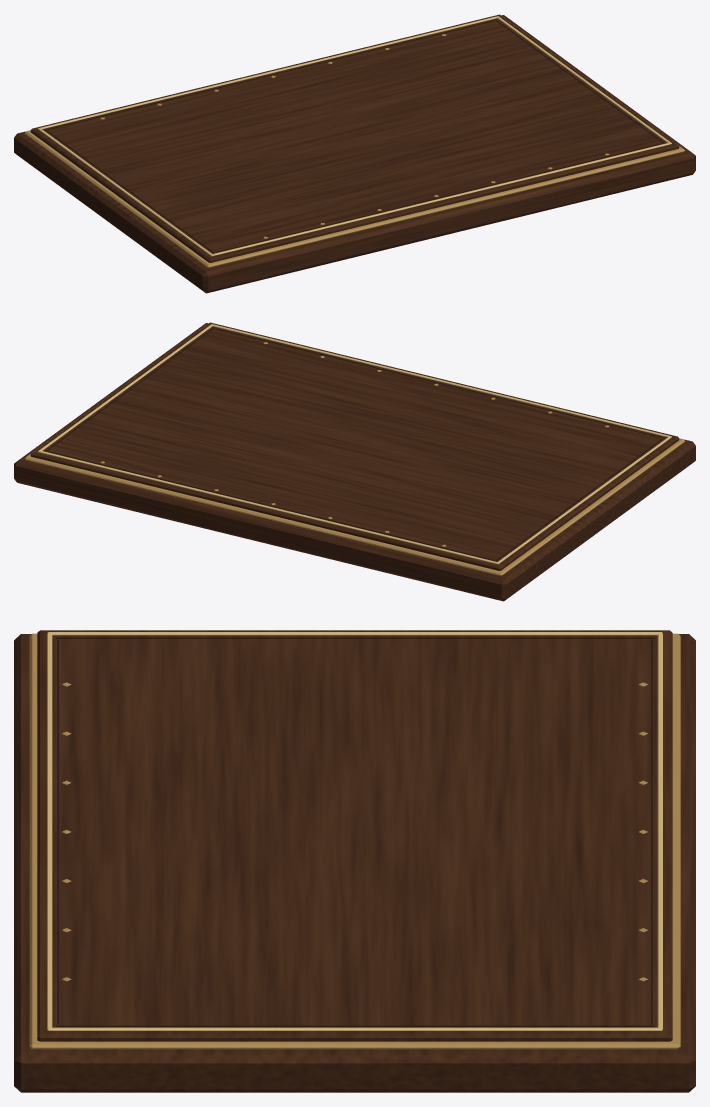
The model's file is wizard_table_carved_frame.glb.
3 renders of one model, top to bottom at view 1: azimuth 30°, elevation 25°; view 2: azimuth 150°, elevation 25°; view 3: azimuth 270°, elevation 25°, orthographic. The views are drawn at different scales.
Visible parts, largest first — view 1: wizard_table_carved_frame_Static; view 2: wizard_table_carved_frame_Static; view 3: wizard_table_carved_frame_Static.
Part boxes in pixels (x1=…): wizard_table_carved_frame_Static: x1=14, y1=14, x2=695, y2=293; wizard_table_carved_frame_Static: x1=14, y1=322, x2=695, y2=601; wizard_table_carved_frame_Static: x1=14, y1=630, x2=695, y2=1092.
Size of the model in its own units: 13 by 0.7425 by 8.8.
Materials: 4 (1 with a texture image).
